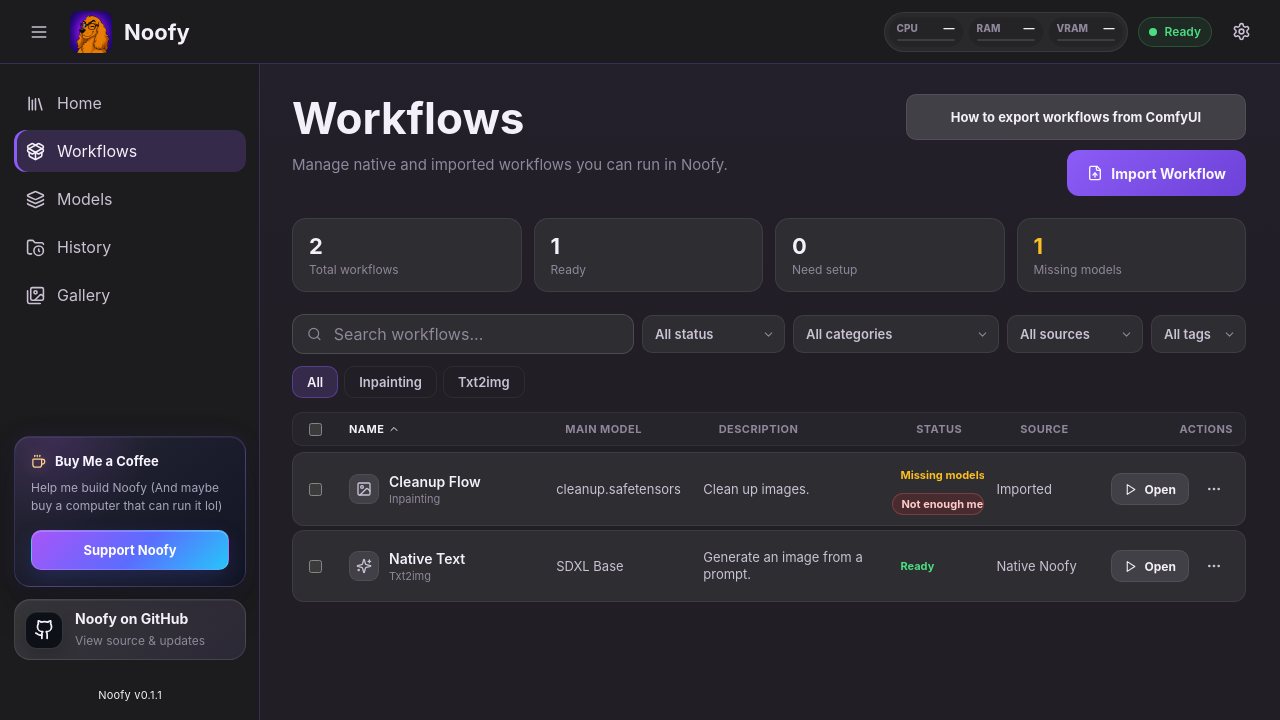
it: WorkflowsPage › selects workflows without opening their details
Click the checkbox named "Select Cleanup Flow" at [316, 489], box [309,483,322,496]
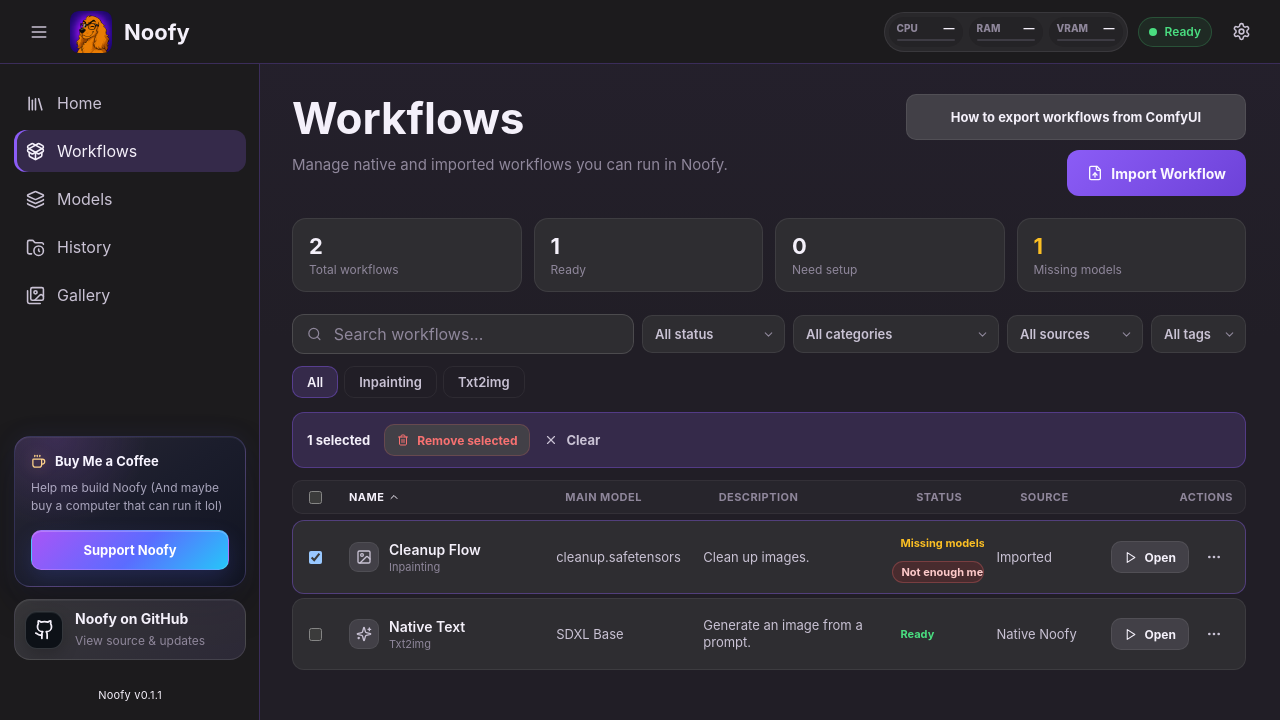
Check: the text "1 selected" is shown, box [307,432,370,448]
